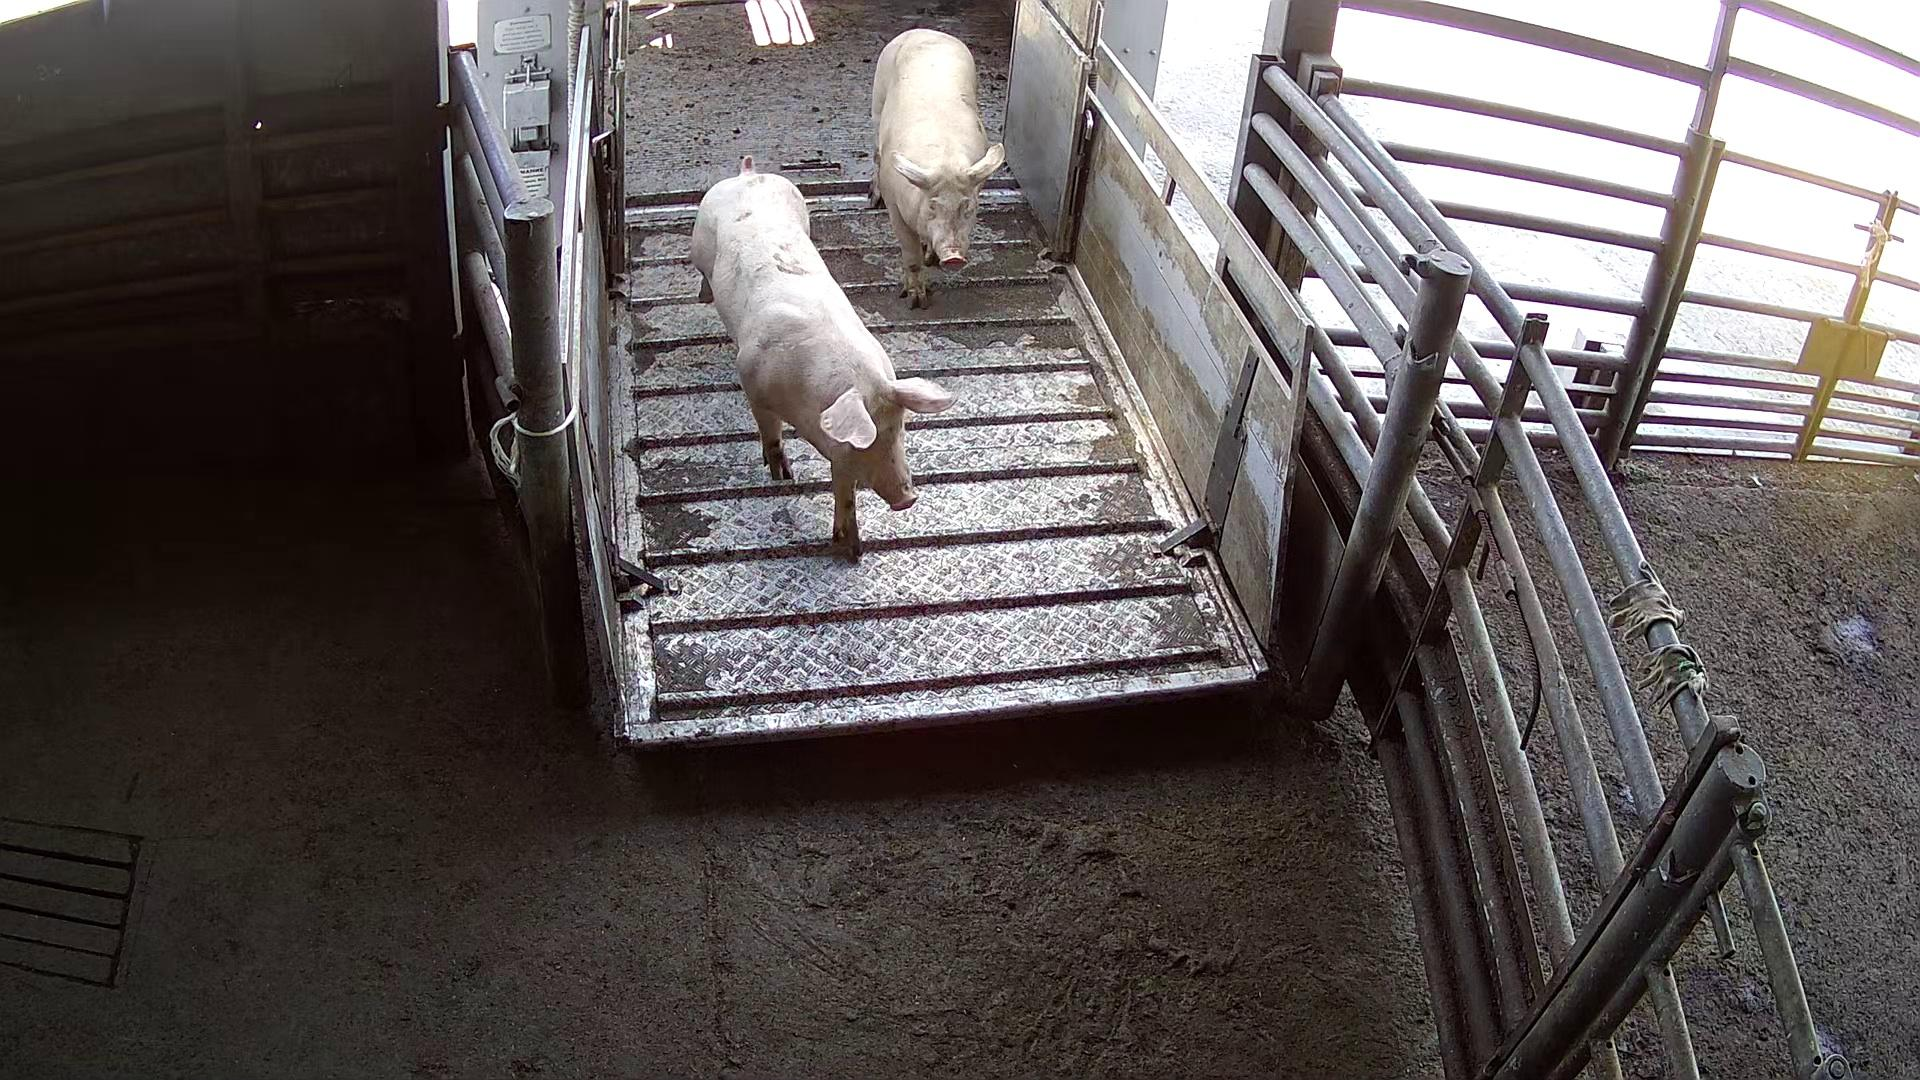Pig: (690, 154, 955, 559), (872, 25, 1006, 305)
